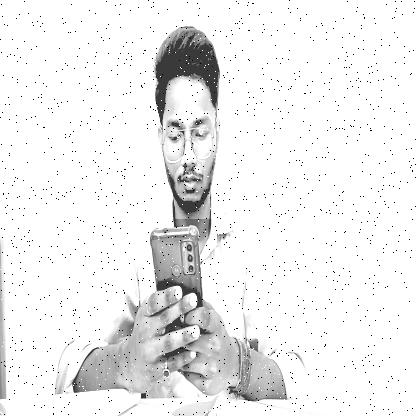Normal: (152, 28, 225, 219)
